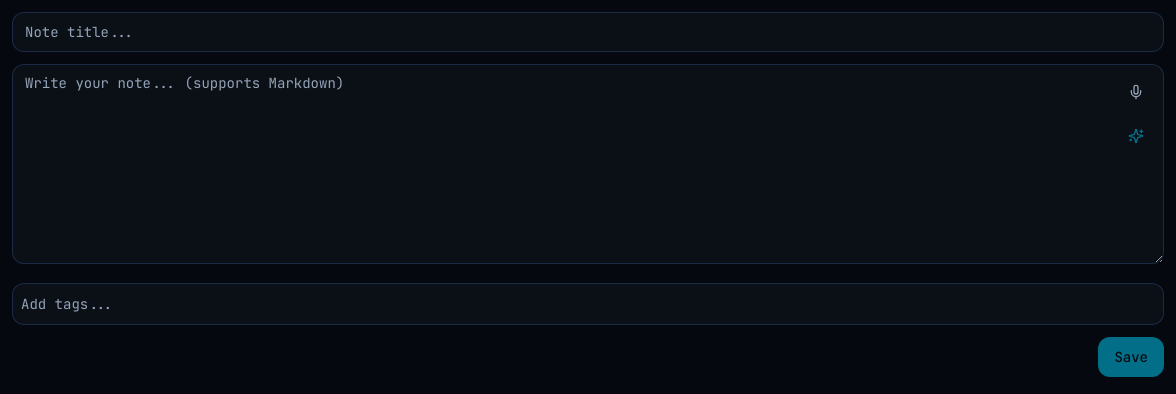
Test: NoteForm › should enable Save button when content has text
This screenshot has width=1176, height=394.
In the text box with placeholder "Write your note... (supports Markdown)": [588, 164] box [12,64,1164,264], type "Note content here"
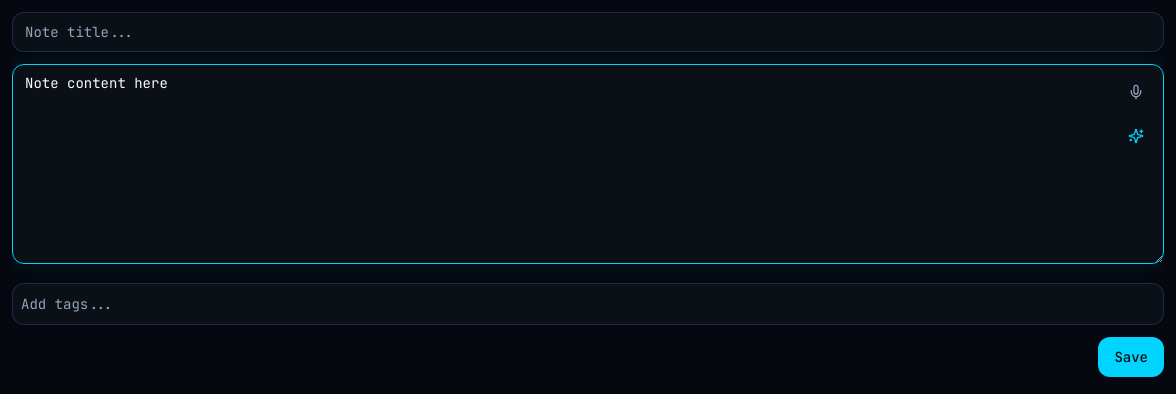
expect the button "Save" is enabled: met, box [1098,337,1164,377]
